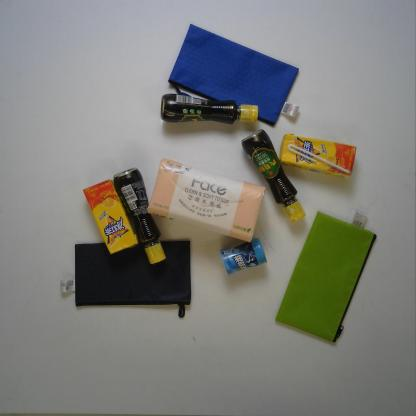Drink: (82, 177, 140, 258), (277, 132, 358, 178)
Gum: (215, 237, 272, 279)
Seasoner: (239, 128, 307, 226), (112, 164, 167, 266), (154, 90, 264, 128)
Stationery: (166, 21, 304, 127), (274, 207, 378, 343), (58, 237, 198, 320)
Tissue: (145, 157, 268, 245)
